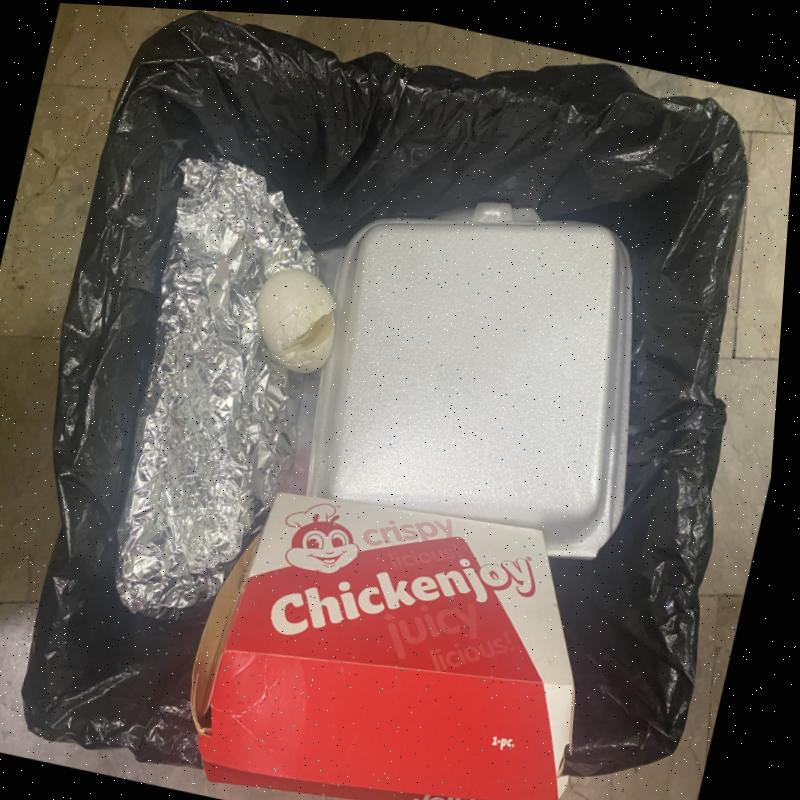aluminum: (113, 155, 317, 618)
cardboard: (186, 491, 572, 800)
egg shell: (252, 267, 335, 373)
styrofoam containers: (303, 201, 631, 559)
